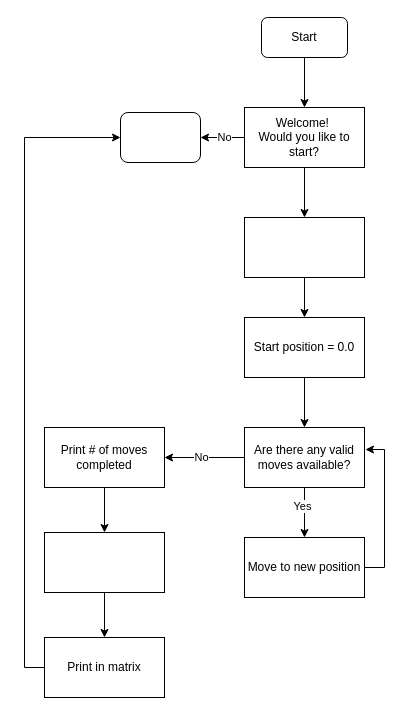
The diagram is 410 pixels wide and 715 high, and some of its shapes have lost their labels. The shapes that lost their labels are listed below. From the top down, each one's centre as x and y in pixels, then its label:
At [160,137]: "End".
At [304,247]: "Generate Board".
At [104,562]: "Calculate nr of moves possible from each square".
